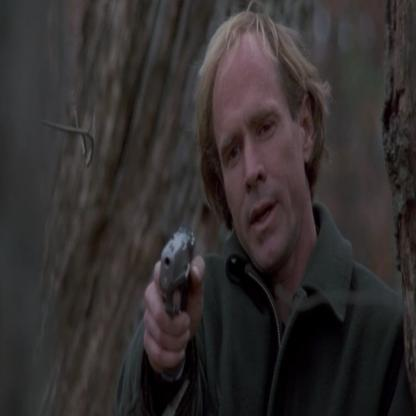gun: (153, 212, 204, 357)
